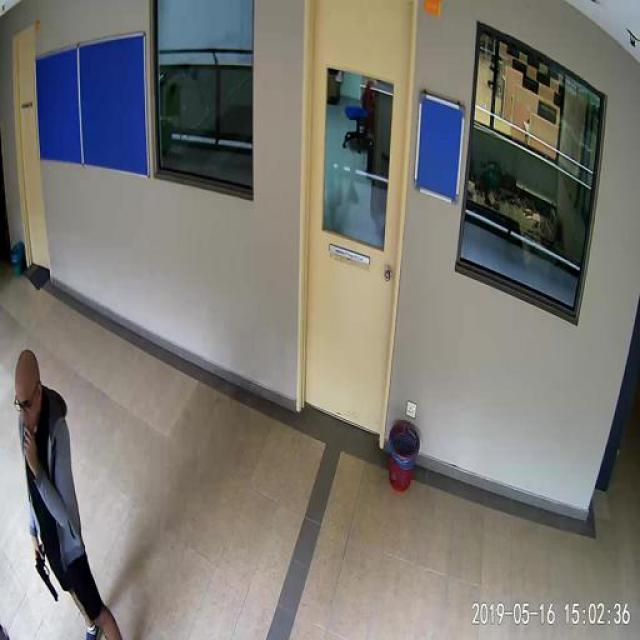Gun: (34, 552, 55, 598)
